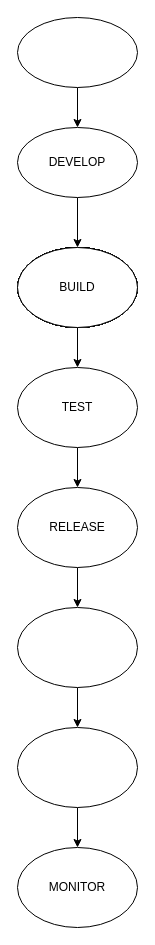
The diagram is 155 pixels wide and 945 high, and some of its shapes have lost their labels. Here are the shapes that lost their labels. From the top down, the centre of each, then its label:
[77,52]: TEXT
[77,647]: DEPLOY
[77,767]: OPERATE
